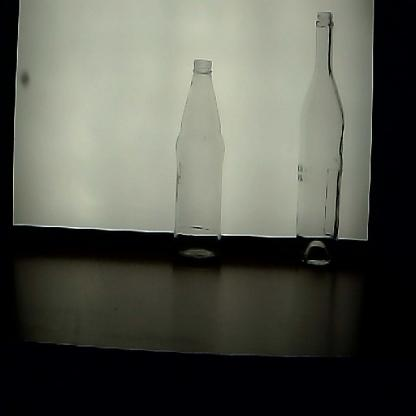Can: (169, 55, 232, 277), (297, 9, 344, 290)
